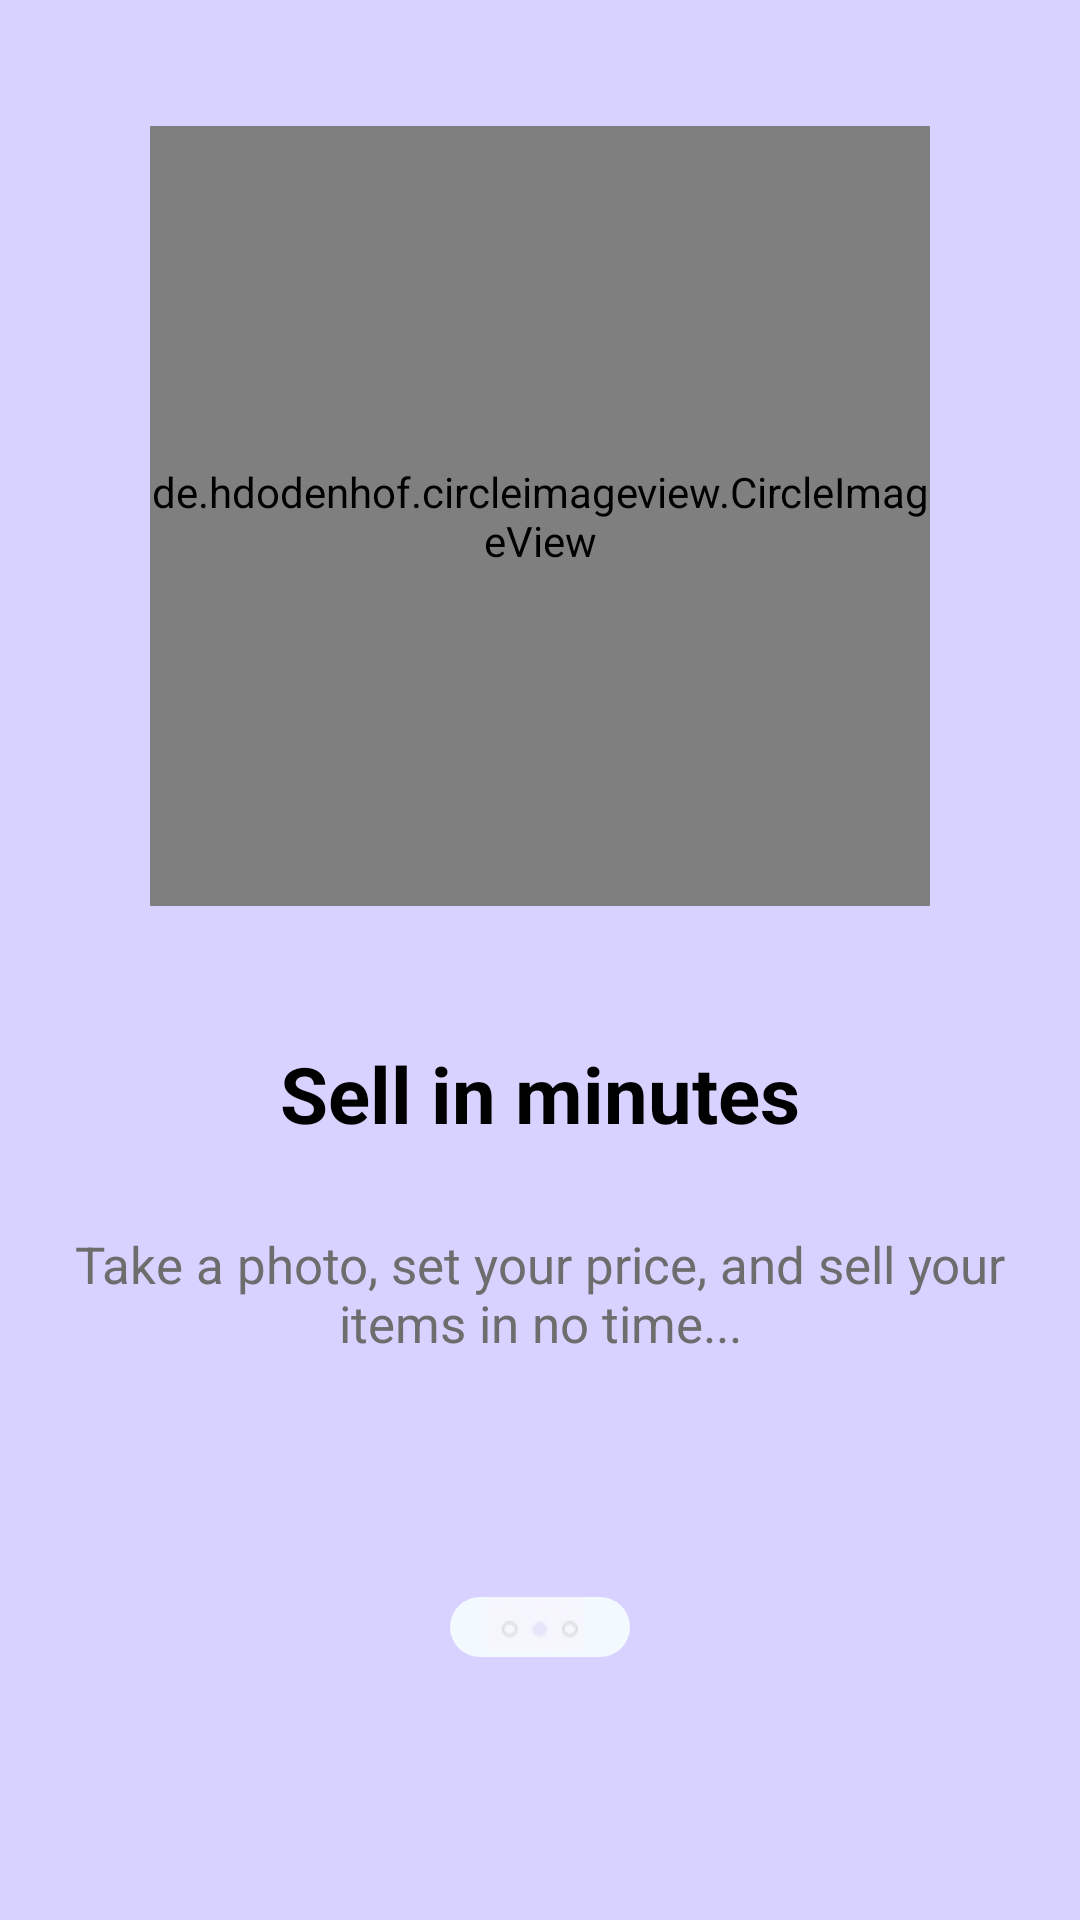

Screen size 1080x1920. Icon name, then its box in pixels as (x1, y1, x2, y2):
dottwo: (450, 1597, 630, 1657)
